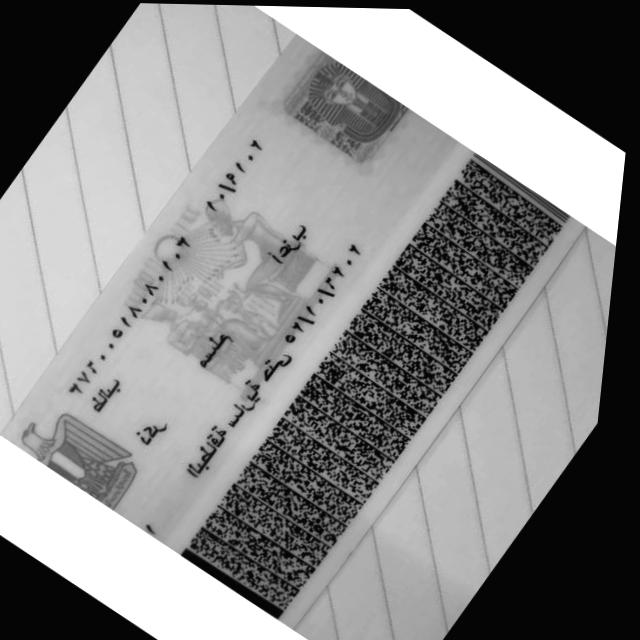id_card: (2, 35, 580, 625)
